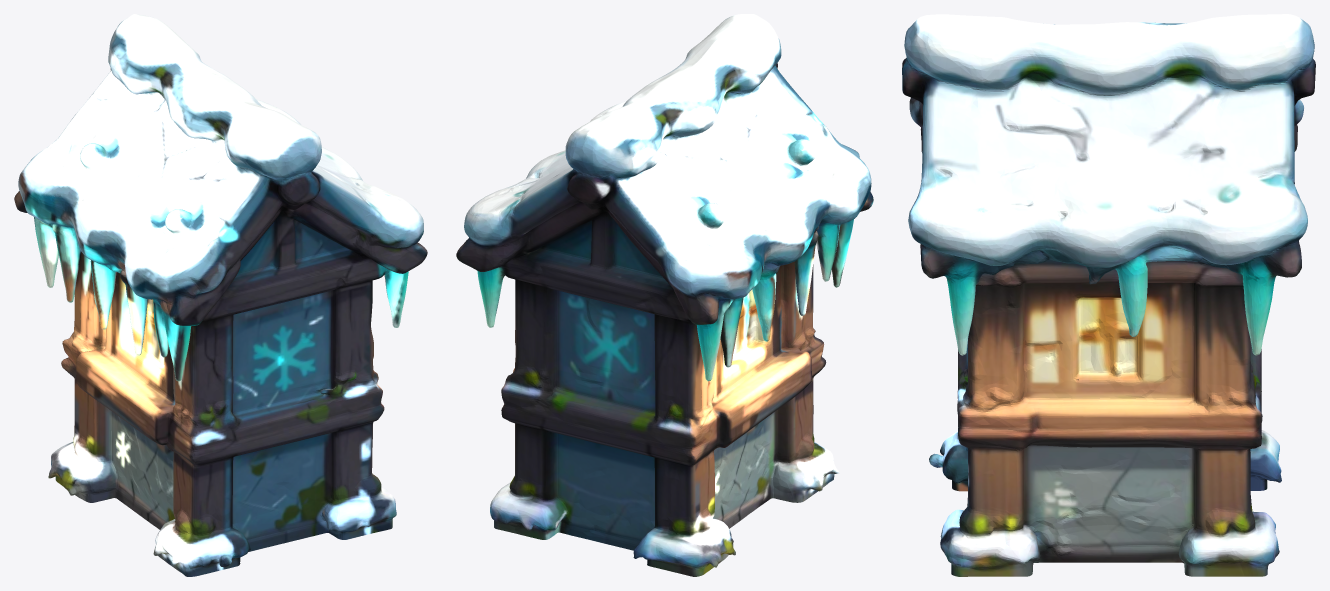
Rendered from rime.glb.
3 views of the same model, side by side, from view 1: azimuth 30°, elevation 25°; view 2: azimuth 150°, elevation 25°; view 3: azimuth 270°, elevation 25° (orthographic). The views are drawn at different scales.
Parts seen in each view (by area): view 1: rime; view 2: rime; view 3: rime.
Part boxes in pixels (box(x1,y1,x2,y2)): rime: box(14, 14, 427, 576); rime: box(456, 14, 873, 576); rime: box(902, 14, 1315, 576).
Size of the model in its own units: 1.28 by 1.91 by 1.44.
Materials: 1 (1 with a texture image).
